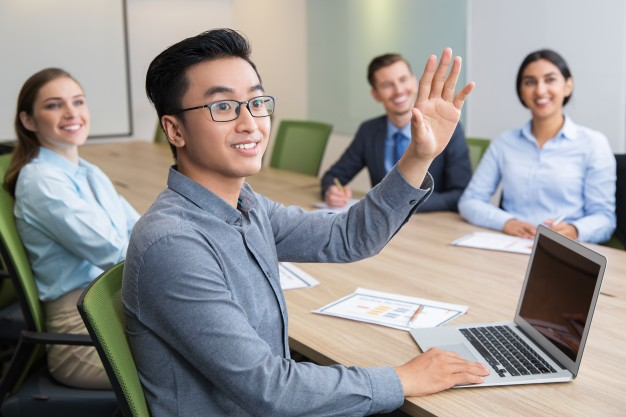hand: (408, 46, 476, 153)
